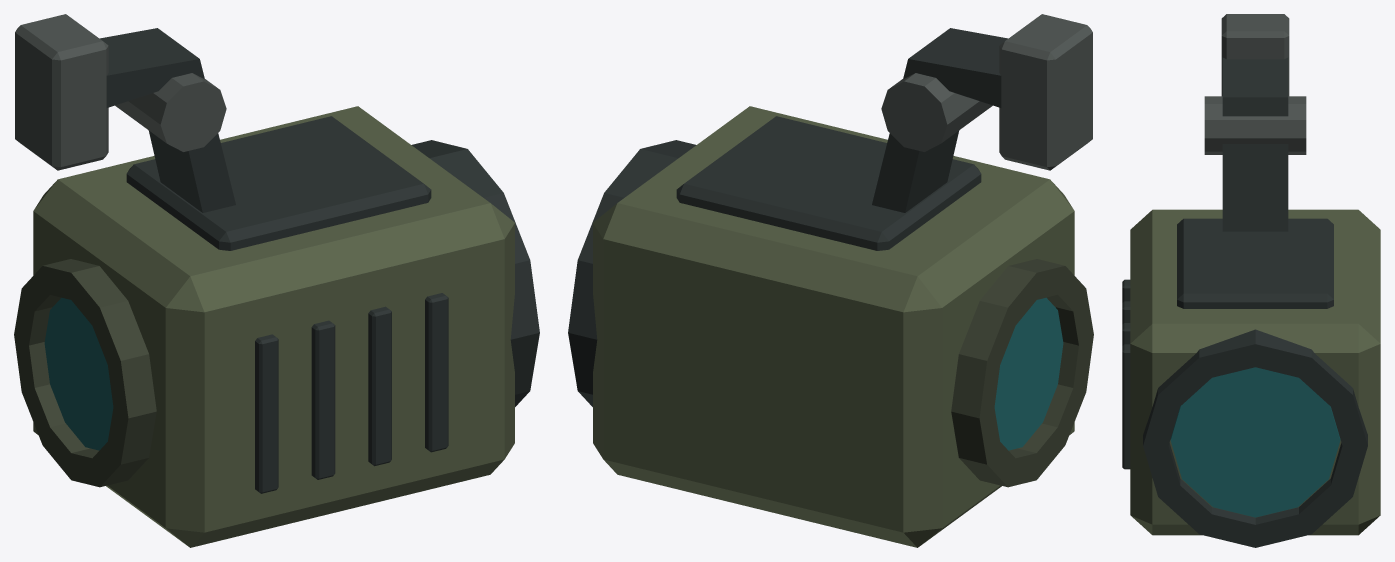
Rendered from SM_HelmetThermal.fbx.
The picture shows the model from 3 angles, left to right: view 1: azimuth 30°, elevation 25°; view 2: azimuth 150°, elevation 25°; view 3: azimuth 270°, elevation 25°; orthographic projection. The views are drawn at different scales.
Visible parts, largest first — view 1: SM_HelmetThermal.001; view 2: SM_HelmetThermal.001; view 3: SM_HelmetThermal.001.
Part boxes in pixels (x1,y1,x2,y2): SM_HelmetThermal.001: (14,14,539,547); SM_HelmetThermal.001: (568,14,1093,547); SM_HelmetThermal.001: (1122,14,1380,547).
Bounding box in the file's own units: 9.2 × 6.09 × 9.75.
